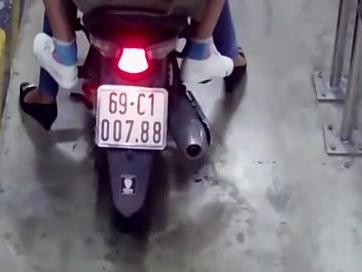num_plate: (94, 83, 173, 152)
